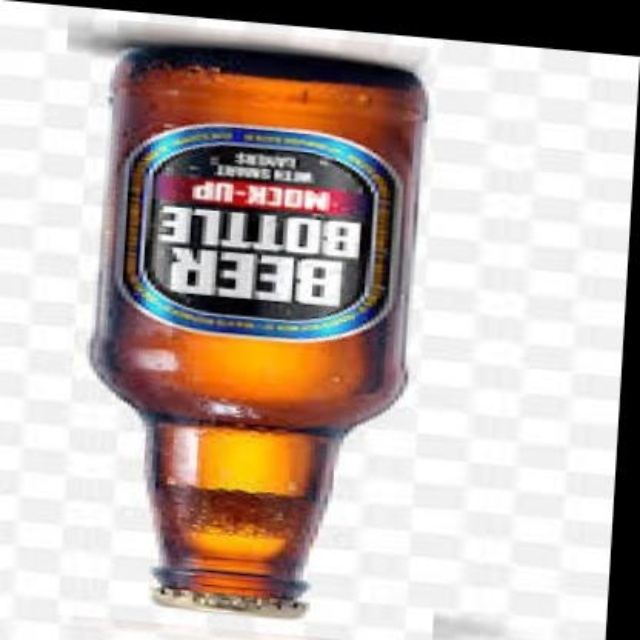trash: (92, 48, 425, 614), (92, 48, 423, 431)
